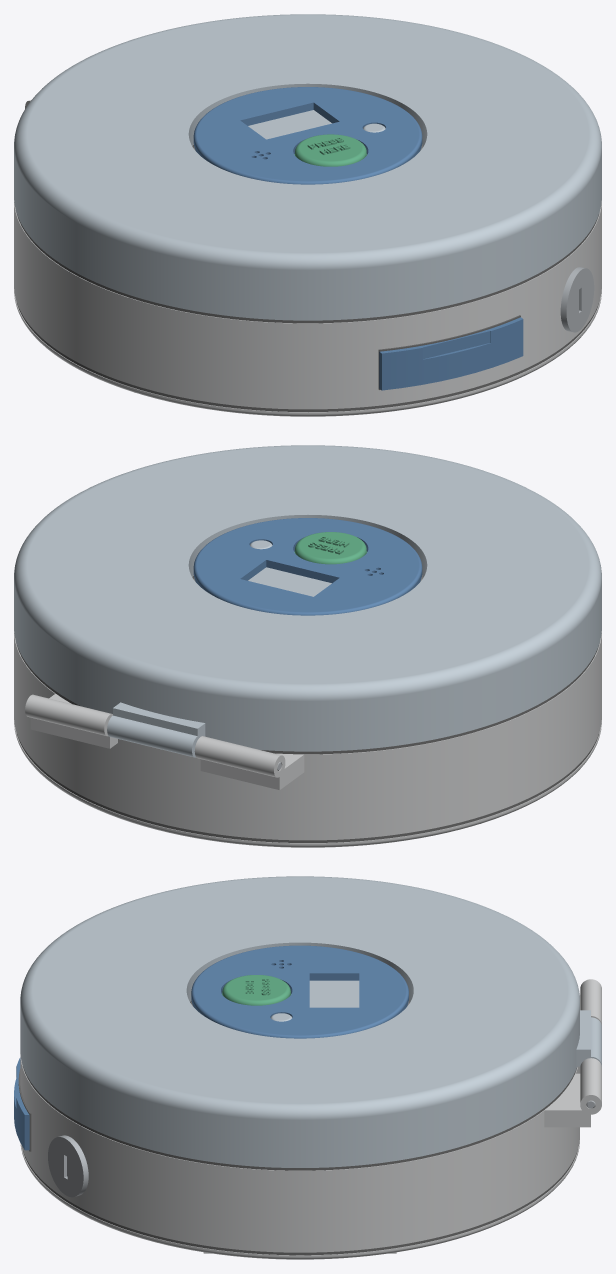
The model's file is esp2025_dispenser.glb.
3 renders of one model, top to bottom at view 1: azimuth 30°, elevation 25°; view 2: azimuth 150°, elevation 25°; view 3: azimuth 270°, elevation 25°, orthographic. The views are drawn at different scales.
Parts seen in each view (by area): view 1: lid, chassis, pod cap, dispensing drawer, bottom cover, PRESS HERE button, lid gasket, base gasket, pharmacy lock, display window; view 2: lid, chassis, pod cap, bottom cover, PRESS HERE button, base gasket, lid gasket, display window; view 3: lid, chassis, pod cap, bottom cover, pharmacy lock, base gasket, lid gasket, PRESS HERE button, display window, dispensing drawer.
Part boxes in pixels (bbox=[...]): lid: bbox=[14, 14, 601, 320]; chassis: bbox=[14, 100, 601, 409]; pod cap: bbox=[193, 87, 422, 184]; dispensing drawer: bbox=[379, 317, 523, 390]; bottom cover: bbox=[14, 289, 601, 416]; PRESS HERE button: bbox=[294, 134, 367, 166]; lid gasket: bbox=[16, 212, 599, 323]; base gasket: bbox=[16, 301, 599, 411]; pharmacy lock: bbox=[560, 267, 594, 332]; display window: bbox=[248, 110, 331, 139]; lid: bbox=[14, 445, 601, 757]; chassis: bbox=[14, 631, 601, 840]; pod cap: bbox=[193, 518, 422, 615]; bottom cover: bbox=[14, 720, 601, 847]; PRESS HERE button: bbox=[294, 532, 367, 564]; base gasket: bbox=[16, 733, 599, 842]; lid gasket: bbox=[16, 643, 599, 754]; display window: bbox=[248, 567, 331, 596]; lid: bbox=[20, 876, 601, 1167]; chassis: bbox=[20, 979, 601, 1252]; pod cap: bbox=[191, 945, 408, 1038]; bottom cover: bbox=[20, 1140, 579, 1259]; pharmacy lock: bbox=[48, 1135, 88, 1197]; base gasket: bbox=[22, 1150, 577, 1255]; lid gasket: bbox=[22, 1066, 577, 1170]; PRESS HERE button: bbox=[222, 975, 291, 1005]; display window: bbox=[309, 980, 359, 1007]; dispensing drawer: bbox=[14, 1057, 29, 1150].
Size of the model in its own units: 180 by 58.6 by 189.
